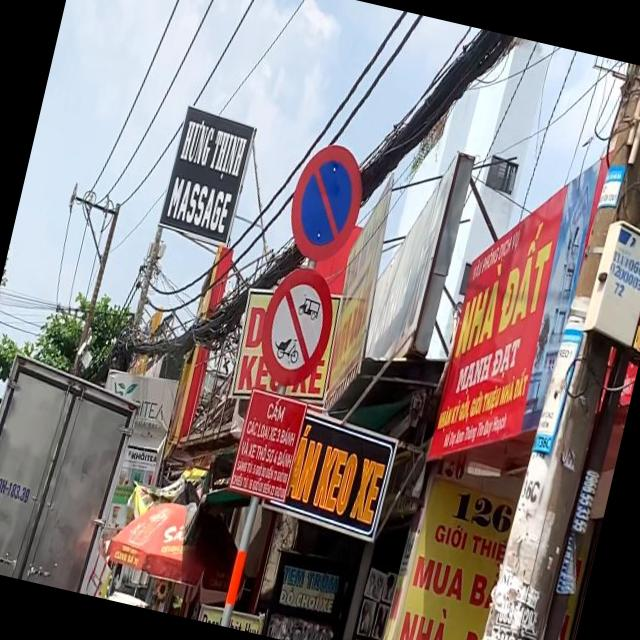P-131a: (284, 137, 372, 266)
